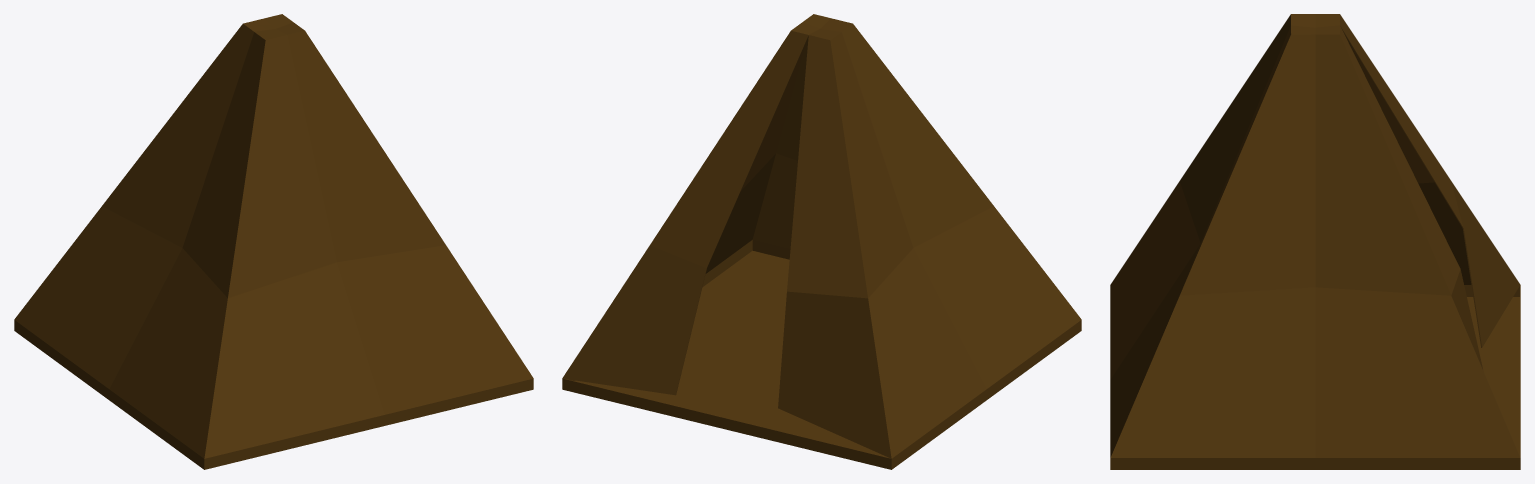
Rendered from LowPolyTent.fbx.
3 renders of one model, left to right at view 1: azimuth 30°, elevation 25°; view 2: azimuth 150°, elevation 25°; view 3: azimuth 270°, elevation 25°, orthographic. The views are drawn at different scales.
Parts seen in each view (by area): view 1: Cube; view 2: Cube; view 3: Cube.
Boxes of the visible parts, <box> form: Cube: <box>14,14,533,469</box>; Cube: <box>562,14,1081,469</box>; Cube: <box>1110,14,1520,469</box>.
Size of the model in its own units: 200 by 193 by 200.
